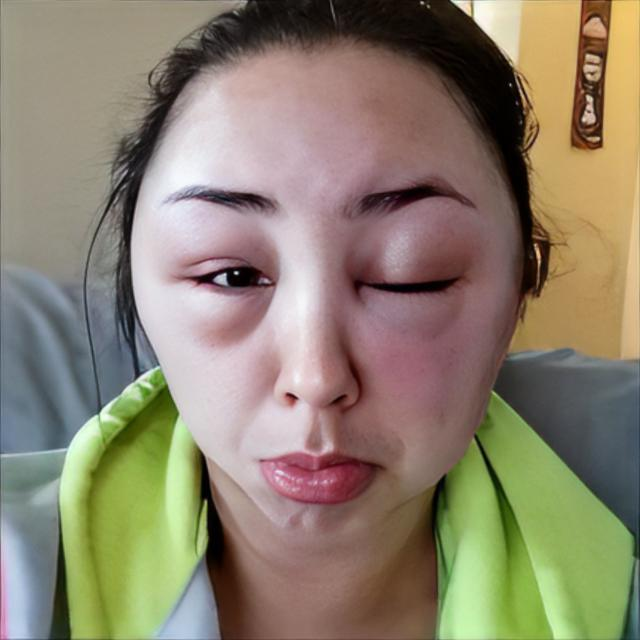sad: (124, 40, 520, 541)
